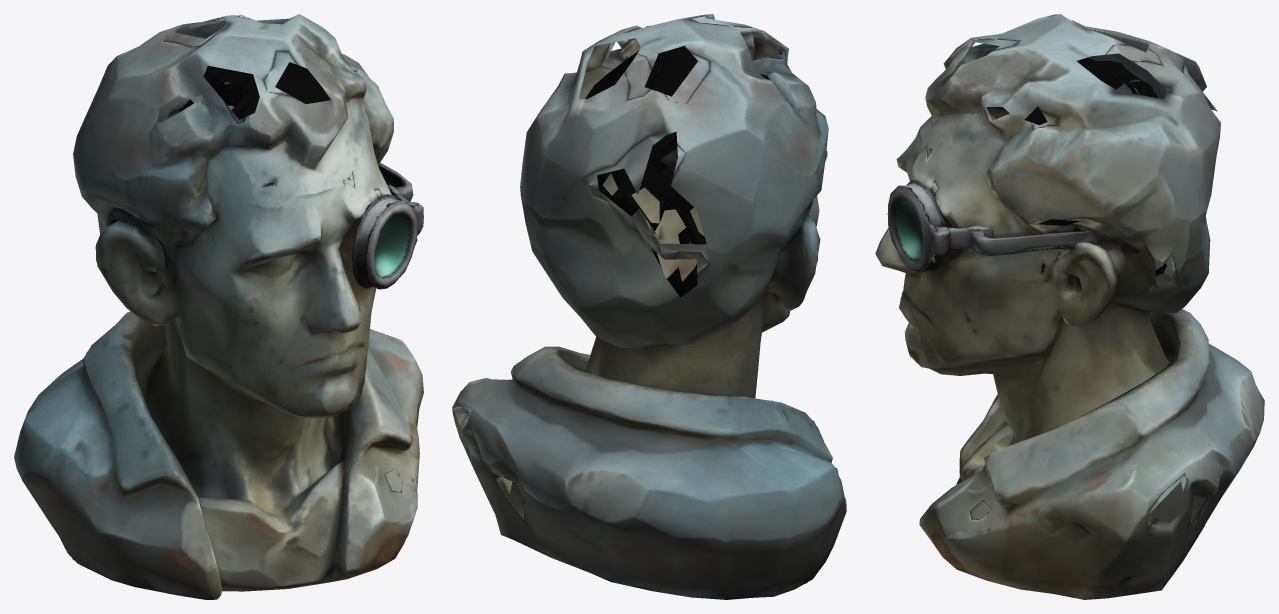
The model's file is crypt_StoneHead1.glb.
3 renders of one model, left to right at view 1: azimuth 30°, elevation 25°; view 2: azimuth 150°, elevation 25°; view 3: azimuth 270°, elevation 25°, orthographic. The views are drawn at different scales.
Visible parts, largest first — view 1: world; view 2: world; view 3: world.
Part boxes in pixels (<box>): world: <box>14,14,423,599</box>; world: <box>452,14,846,599</box>; world: <box>875,14,1264,599</box>.
Bounding box in the file's own units: 0.7959 × 1 × 0.7135.
1 material, 1 textured.
